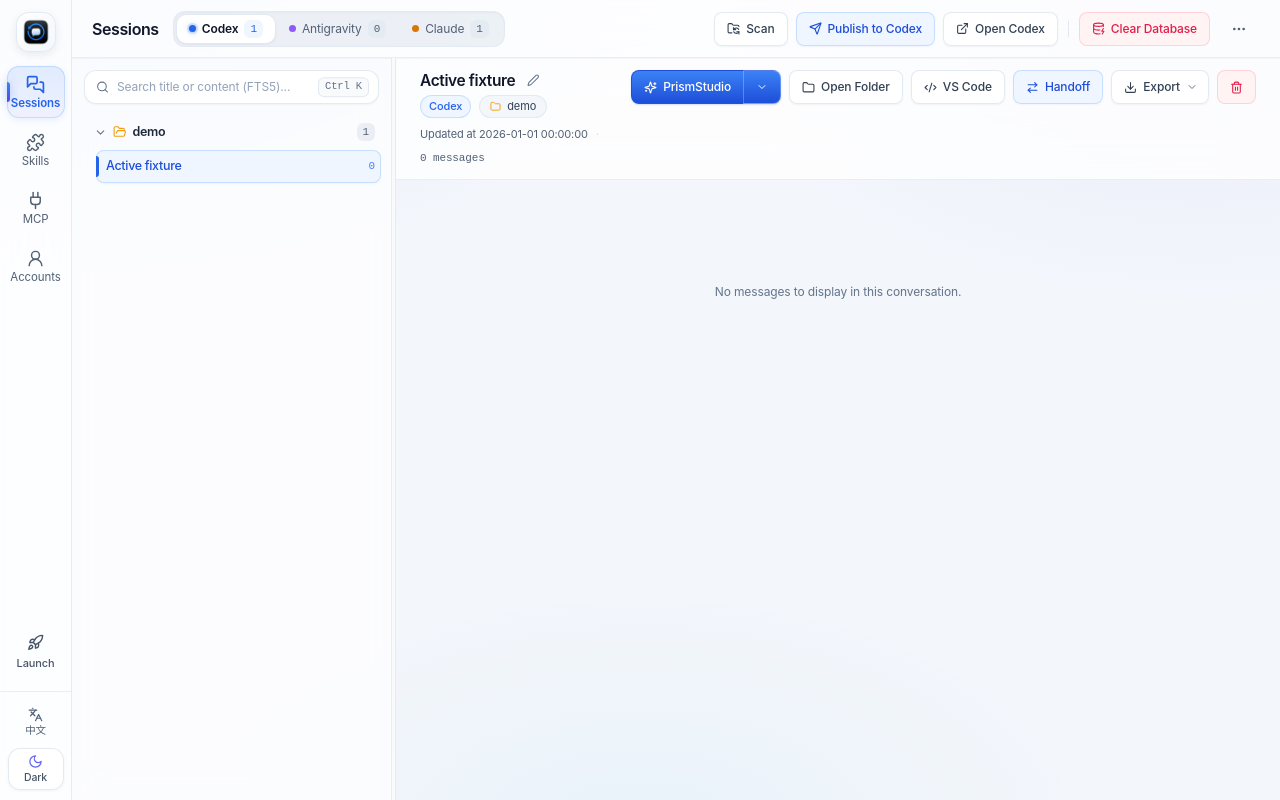
Test case: archive option also controls search results
Check: the text "Active fixture" is shown, box [106, 158, 182, 173]
Type "Archived fixture" into the search field at x=232, y=87, box [84, 70, 379, 104]
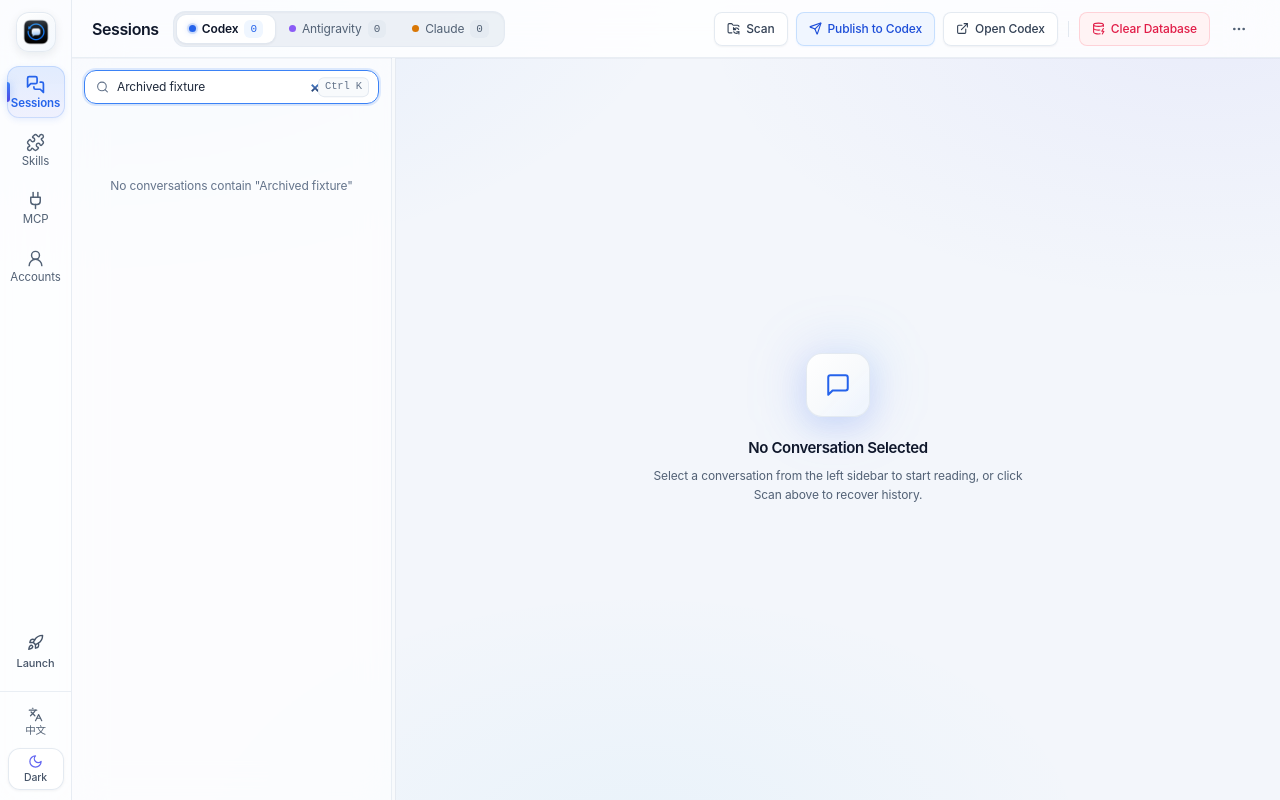
Click the button named "More" at x=1239, y=28, box [1218, 12, 1260, 46]
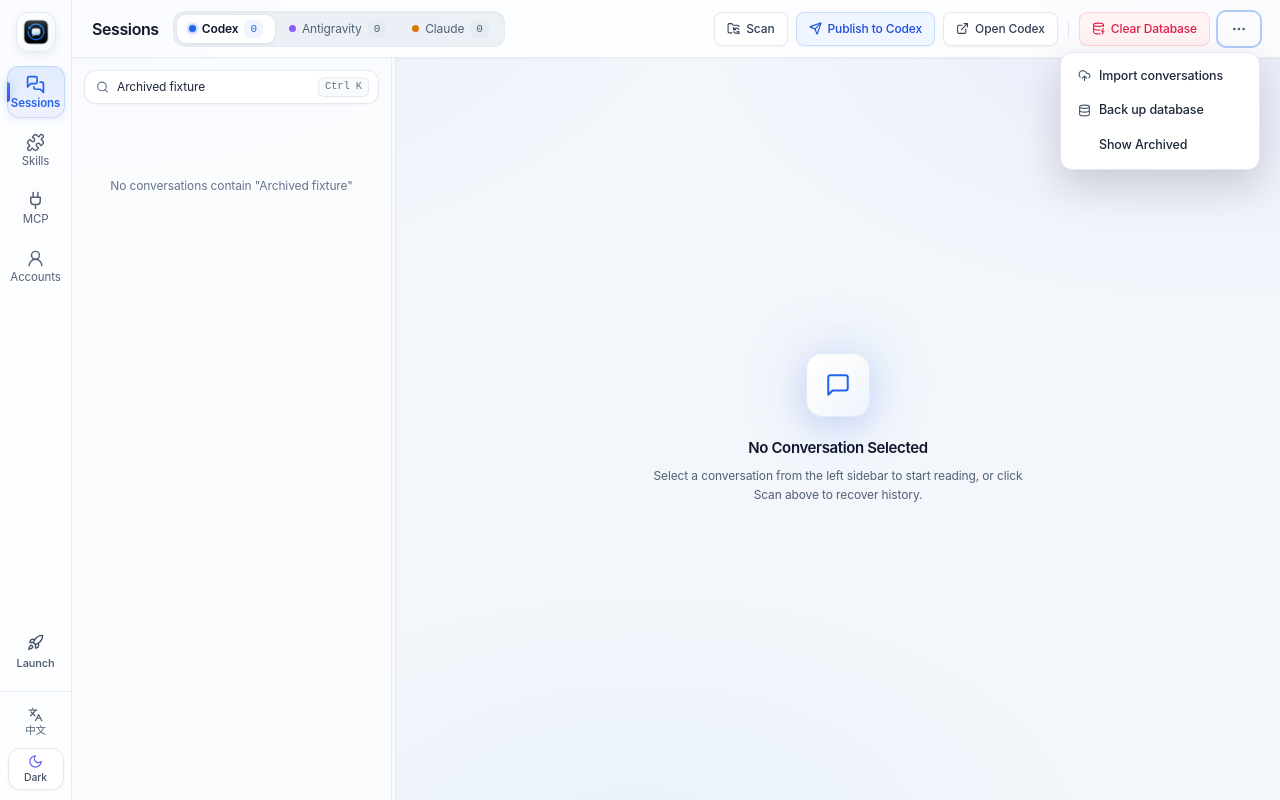
Click the menu item "Show Archived" at x=1160, y=145, box [1067, 128, 1253, 163]
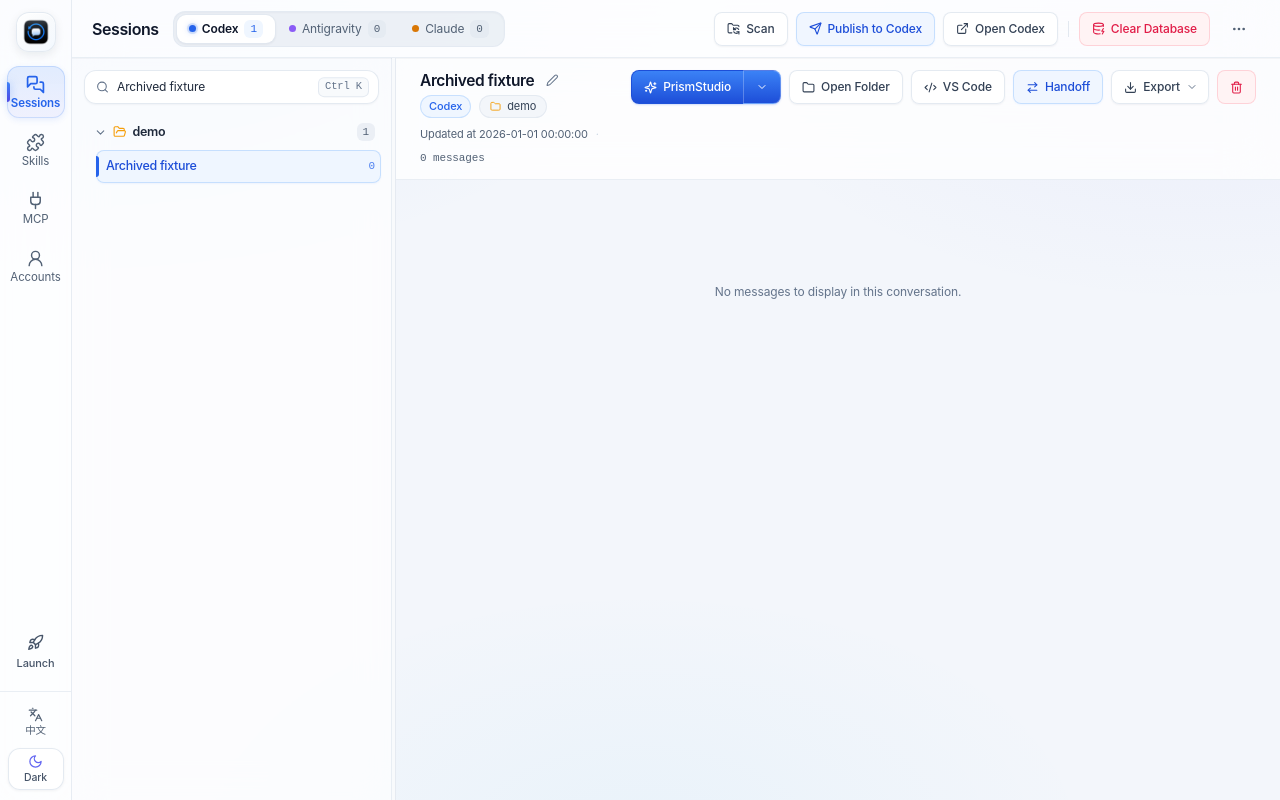
Check: the text "Archived fixture" is shown, box [106, 158, 196, 173]
